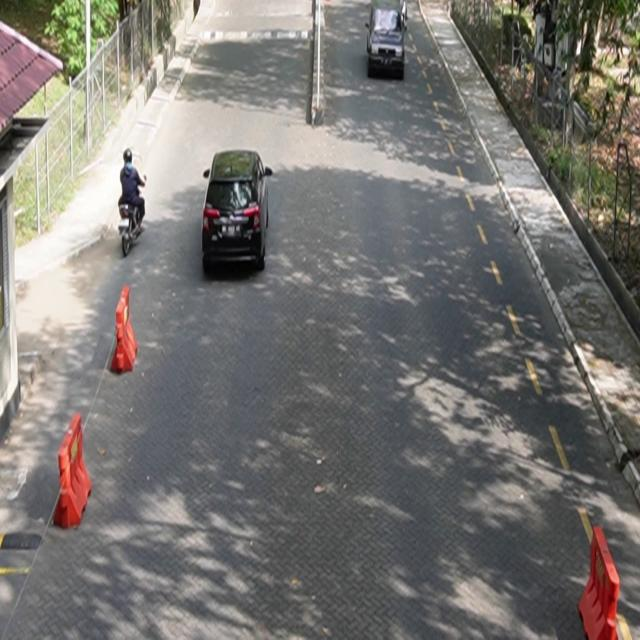car: (202, 149, 273, 274), (366, 1, 408, 80)
